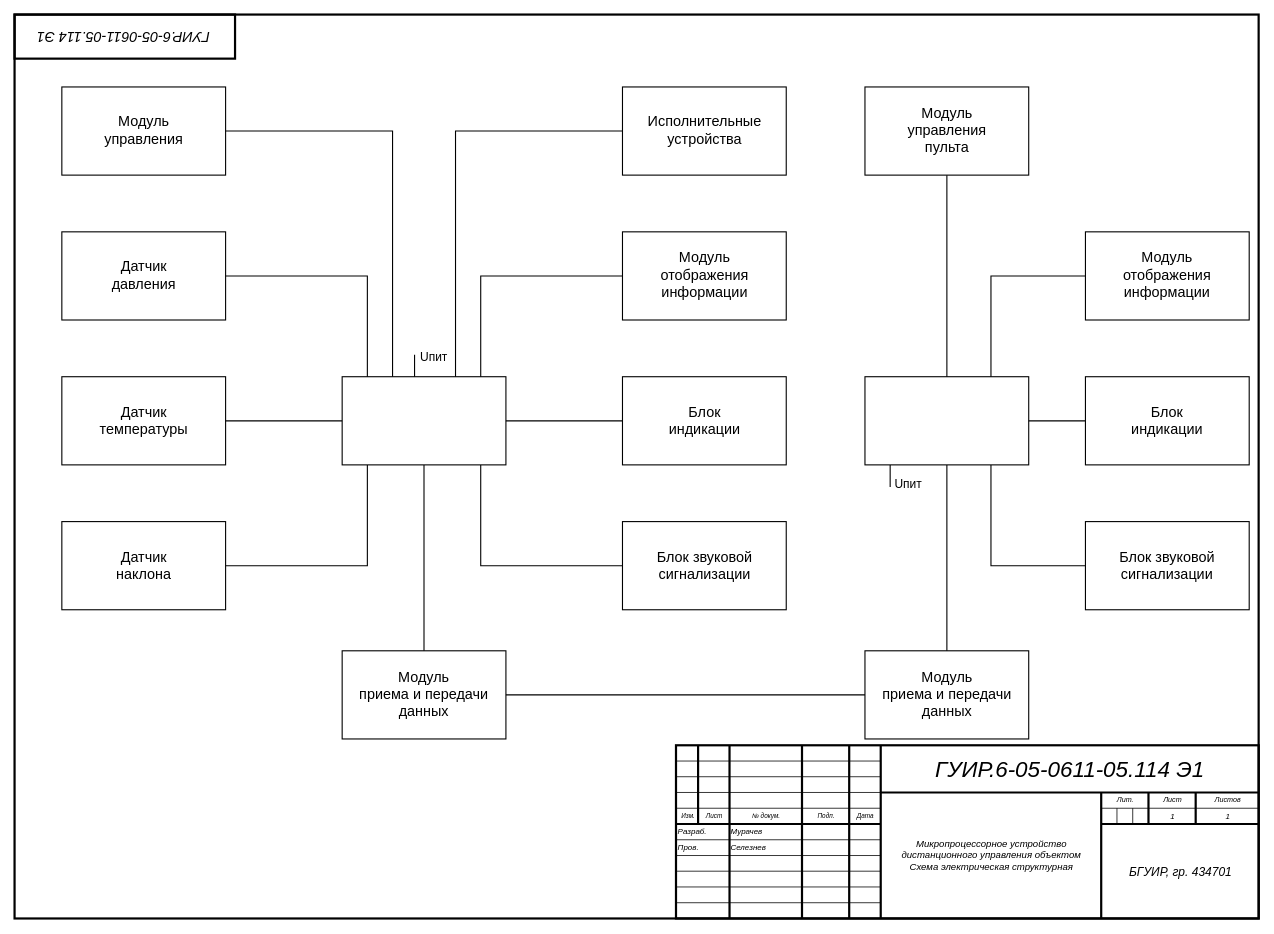
Some shapes in this 1274 by 934 pixel diagram are drawn without their labels. The shapes that lost their labels are listed below. From the top down, each one's box as (x1, y1, x2, y2) in pixels, then its label:
(341, 376, 506, 465): Микроконтроллер блока управления
(864, 376, 1029, 465): Микроконтроллер пульта
